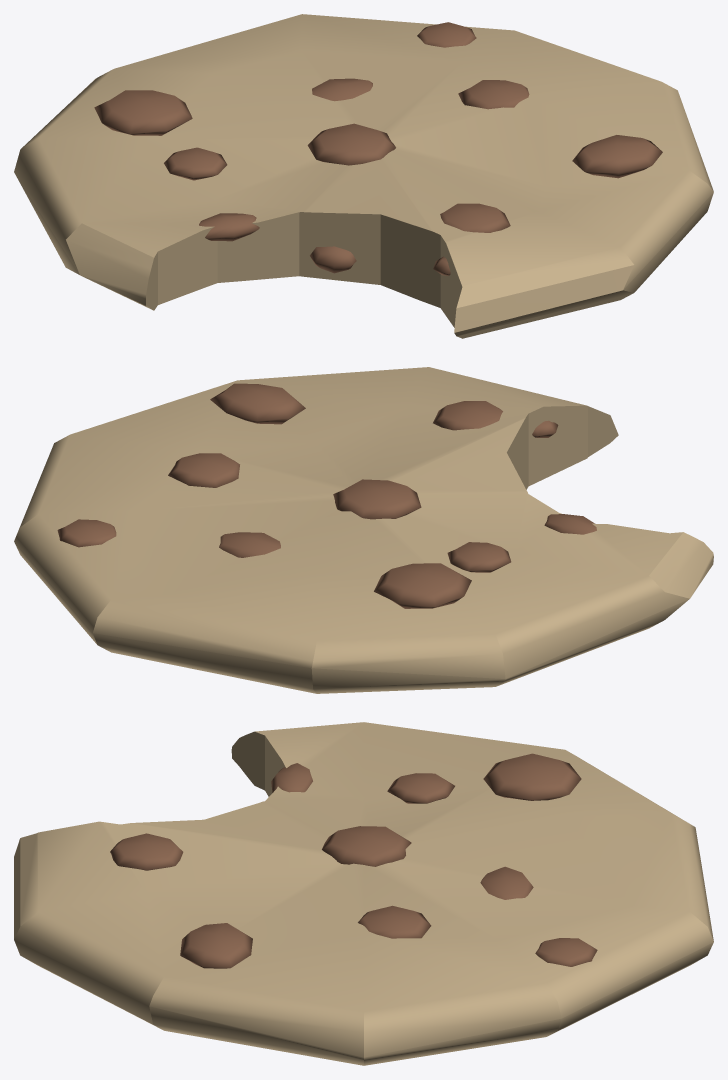
Rendered from F_Cookie.fbx.
3 views of the same model, one above another, from view 1: azimuth 30°, elevation 25°; view 2: azimuth 150°, elevation 25°; view 3: azimuth 270°, elevation 25° (orthographic). The views are drawn at different scales.
Parts seen in each view (by area): view 1: pCylinder4, pCube3, pCube6, pCube9, pCube7, pCube1, pCube4, pCube8, pCube5, pCube2, pCube11; view 2: pCylinder4, pCube3, pCube6, pCube9, pCube1, pCube7, pCube4, pCube2, pCube5, pCube8; view 3: pCylinder4, pCube3, pCube9, pCube6, pCube7, pCube1, pCube4, pCube5, pCube2, pCube8.
Part boxes in pixels (x1=…): pCylinder4: x1=14, y1=14, x2=713, y2=338; pCube3: x1=94, y1=90, x2=192, y2=135; pCube6: x1=572, y1=135, x2=662, y2=178; pCube9: x1=307, y1=123, x2=395, y2=165; pCube7: x1=440, y1=203, x2=510, y2=232; pCube1: x1=458, y1=80, x2=529, y2=109; pCube4: x1=164, y1=147, x2=227, y2=180; pCube8: x1=199, y1=213, x2=259, y2=241; pCube5: x1=417, y1=22, x2=476, y2=47; pCube2: x1=312, y1=78, x2=372, y2=101; pCube11: x1=310, y1=246, x2=356, y2=273; pCylinder4: x1=14, y1=367, x2=713, y2=693; pCube3: x1=374, y1=563, x2=471, y2=608; pCube6: x1=210, y1=383, x2=305, y2=424; pCube9: x1=333, y1=479, x2=421, y2=519; pCube1: x1=168, y1=453, x2=239, y2=487; pCube7: x1=433, y1=401, x2=502, y2=430; pCube4: x1=447, y1=542, x2=511, y2=572; pCube2: x1=219, y1=532, x2=280, y2=557; pCube5: x1=57, y1=519, x2=116, y2=547; pCube8: x1=544, y1=514, x2=596, y2=534; pCylinder4: x1=14, y1=722, x2=713, y2=1065; pCube3: x1=483, y1=753, x2=581, y2=800; pCube9: x1=322, y1=826, x2=411, y2=866; pCube6: x1=180, y1=923, x2=252, y2=968; pCube7: x1=110, y1=833, x2=183, y2=870; pCube1: x1=358, y1=905, x2=431, y2=938; pCube4: x1=387, y1=773, x2=454, y2=803; pCube5: x1=535, y1=938, x2=597, y2=966; pCube2: x1=480, y1=866, x2=533, y2=899; pCube8: x1=271, y1=763, x2=312, y2=792.
Size of the model in its own units: 7.75 by 1.09 by 7.37.
